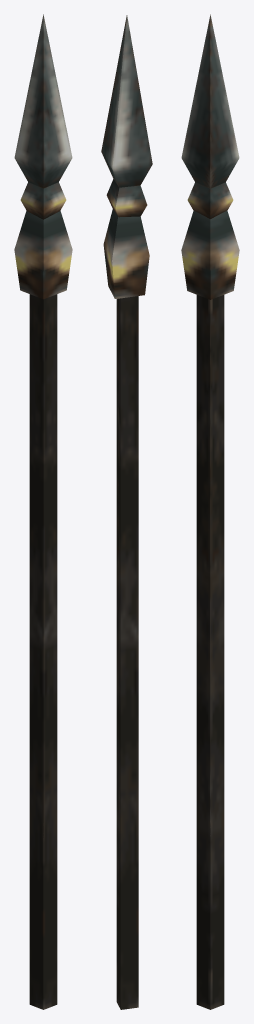
Rendered from xsm_bingqi_2.FBX.
3 views of the same model, side by side, from view 1: azimuth 90°, elevation 25°; view 2: azimuth 150°, elevation 25°; view 3: azimuth 270°, elevation 25° (orthographic).
Parts seen in each view (by area): view 1: xsm_bingqi_2; view 2: xsm_bingqi_2; view 3: xsm_bingqi_2.
Boxes of the visible parts, x1,y1,x2,y2 form: xsm_bingqi_2: (14,14,72,1009); xsm_bingqi_2: (101,15,152,1009); xsm_bingqi_2: (181,14,239,1009).
Bounding box in the file's own units: 12.83 × 236 × 12.59.
